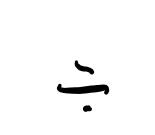div: (57, 60, 110, 112)
